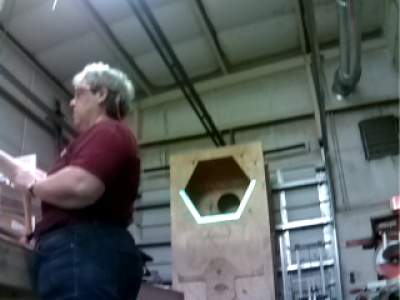target: (178, 179, 257, 223)
